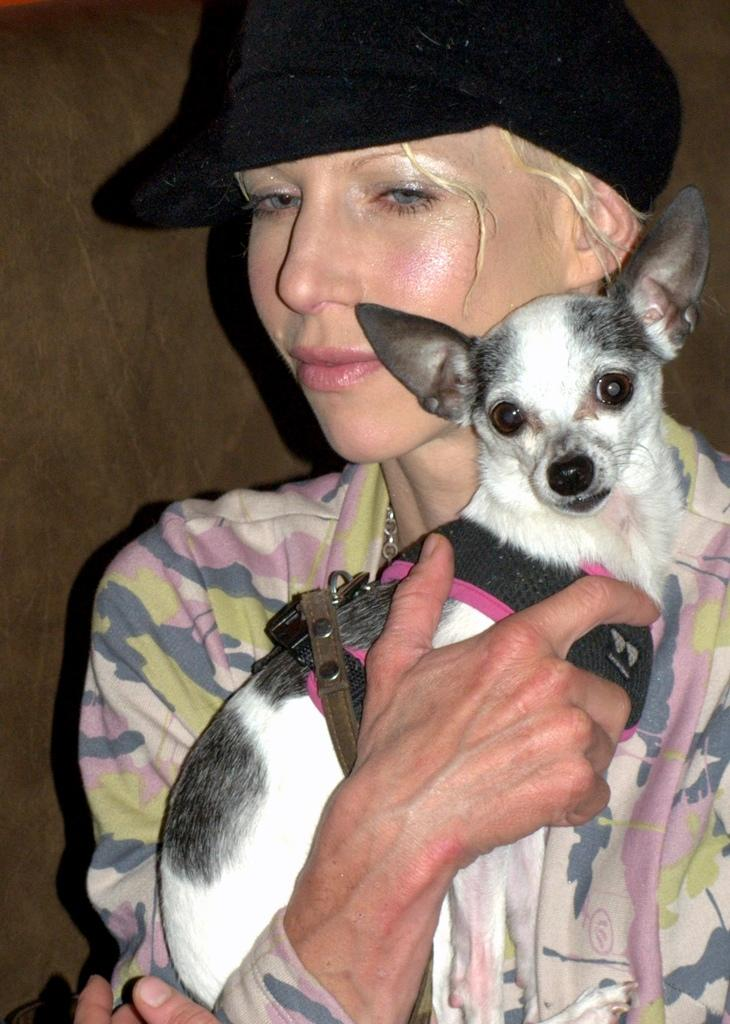Hat: (91, 0, 685, 231)
